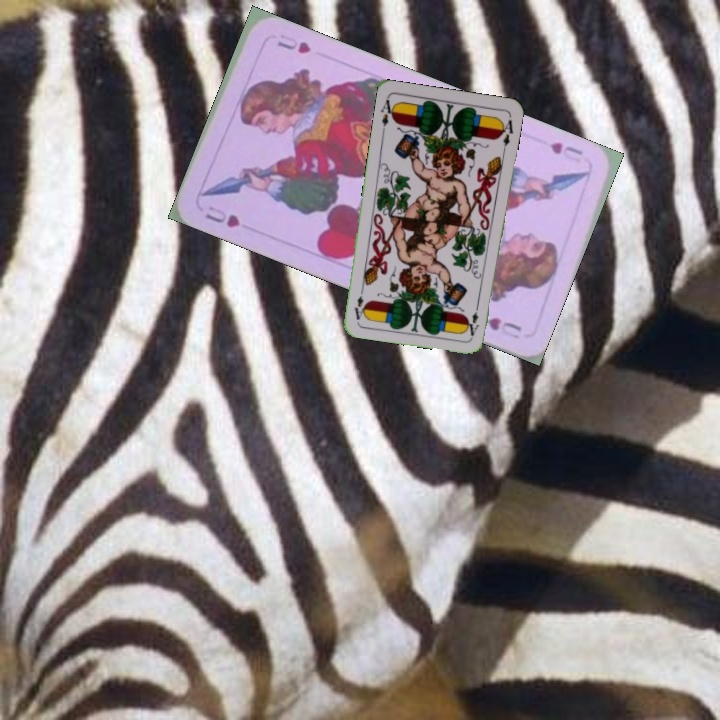EA: (377, 94, 398, 135), (466, 299, 482, 338)
HU: (201, 201, 243, 231), (546, 138, 586, 166)
